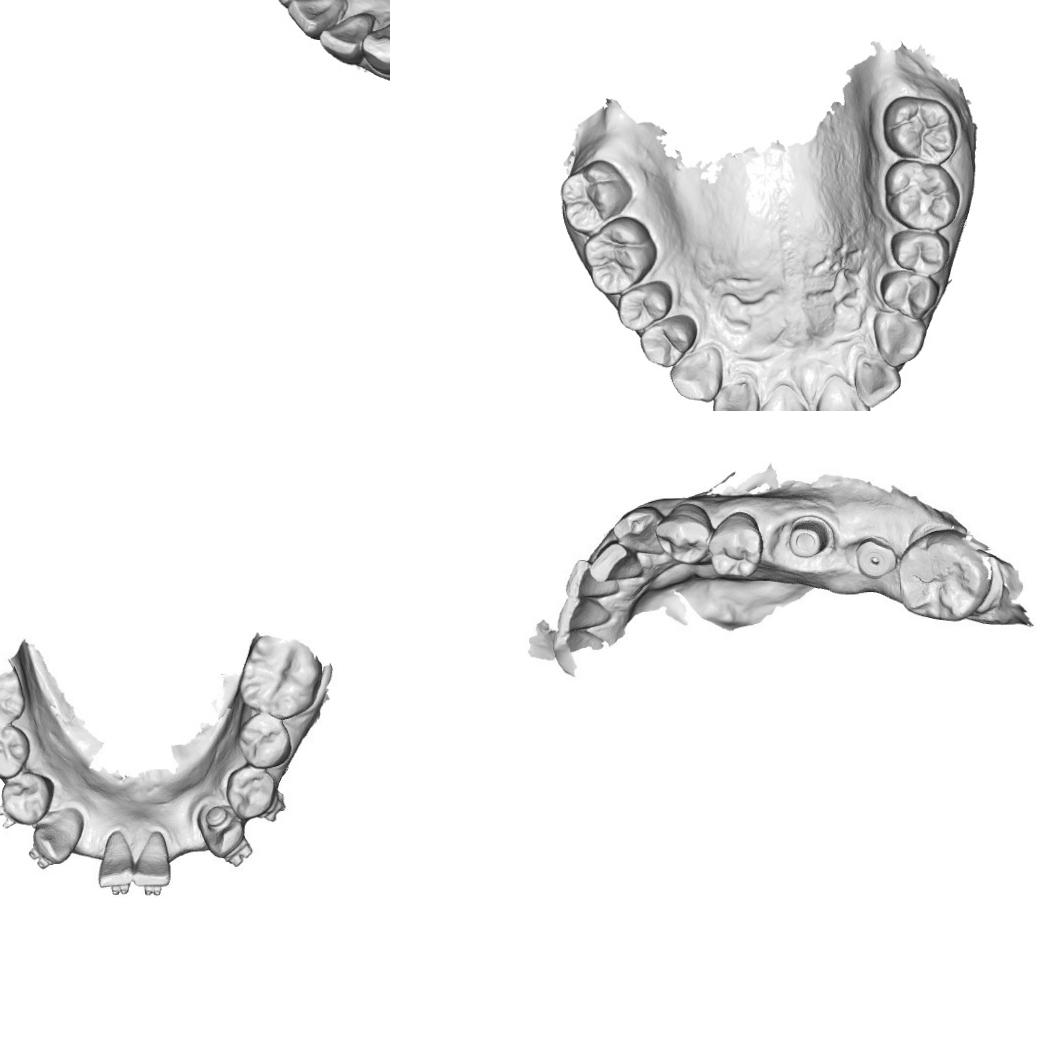abutment: (785, 512, 834, 563)
canine: (871, 306, 928, 368), (29, 805, 86, 866), (668, 344, 725, 404), (609, 504, 666, 563), (194, 801, 247, 859), (359, 17, 390, 77)
implant: (850, 530, 900, 582)
incisor: (319, 10, 373, 68), (581, 542, 650, 586), (560, 560, 624, 606), (554, 596, 620, 640), (852, 352, 902, 410), (132, 830, 174, 892), (286, 0, 349, 40), (98, 828, 134, 894), (814, 373, 873, 411), (710, 375, 760, 411), (751, 381, 809, 411), (267, 0, 334, 9)
molar: (893, 530, 993, 626), (235, 633, 324, 721), (880, 158, 962, 234), (582, 214, 656, 298), (558, 156, 633, 236), (880, 93, 958, 167), (0, 666, 27, 735)
premolar: (655, 500, 717, 570), (234, 712, 294, 769), (638, 314, 698, 370), (878, 268, 940, 322), (615, 279, 676, 333), (888, 228, 952, 278), (0, 770, 56, 827), (224, 764, 279, 822), (709, 514, 762, 570), (0, 723, 32, 778)
